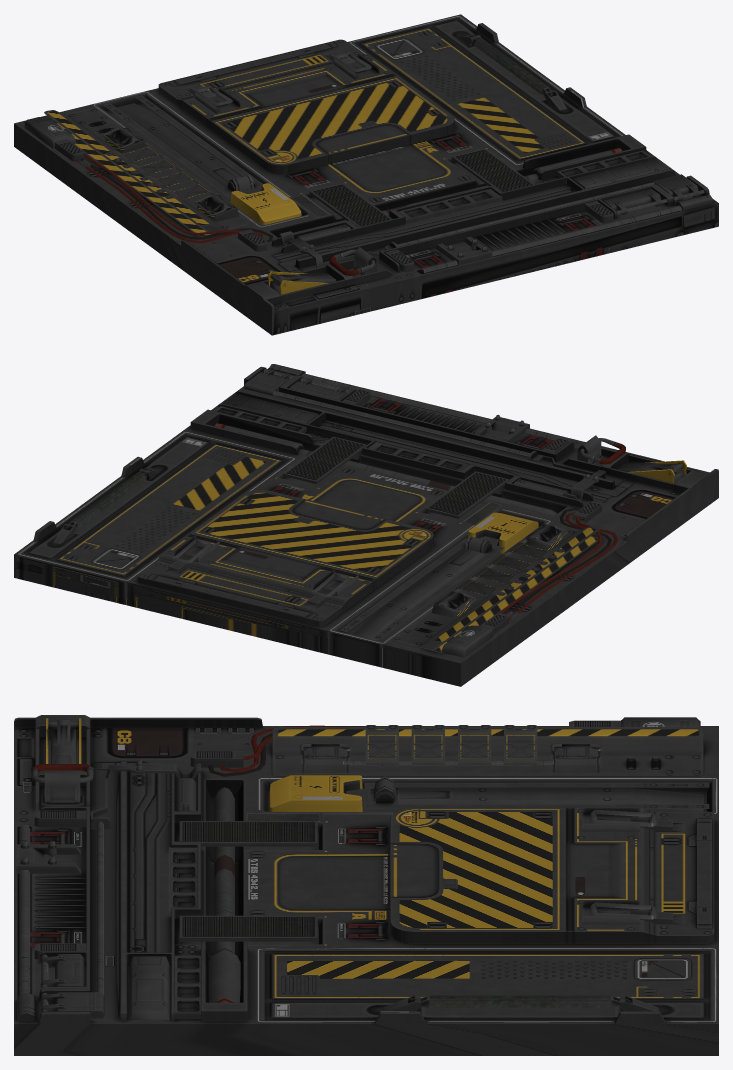
Rendered from Wall_4x4_L2.FBX.
3 views of the same model, one above another, from view 1: azimuth 30°, elevation 25°; view 2: azimuth 150°, elevation 25°; view 3: azimuth 270°, elevation 25° (orthographic). The views are drawn at different scales.
Visible parts, largest first — view 1: Wall_4x4_L2; view 2: Wall_4x4_L2; view 3: Wall_4x4_L2.
Part boxes in pixels (x1,y1,x2,y2): Wall_4x4_L2: (14,14,718,335); Wall_4x4_L2: (14,364,718,686); Wall_4x4_L2: (14,715,718,1055).
Bounding box in the file's own units: 400 × 37.5 × 400.
